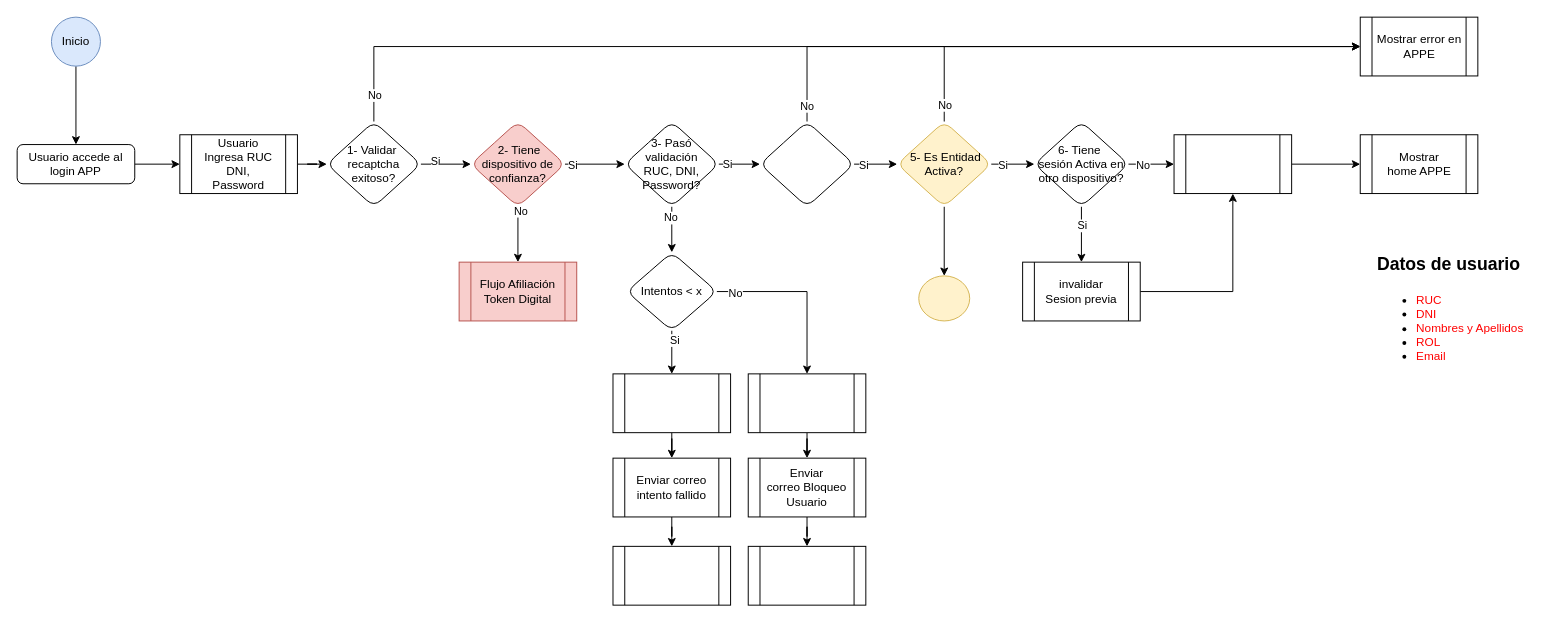
This 1559x622 diagram has some shape labels left out. Each missing label, with the centre of its shape:
"4- Es Usuario Activo?" belongs at point (806, 164).
"Actualizar Numero intentos fallidos" belongs at point (671, 403).
"Bloquear Usuario" belongs at point (806, 403).
"Enviar correo inicio Sesión exitoso" belongs at point (1232, 164).
"IBS" belongs at point (944, 298).
"Mostrar error de intentos en APPE" belongs at point (671, 575).
"Mostrar mensaje Bloqueo en APPE" belongs at point (806, 575).
